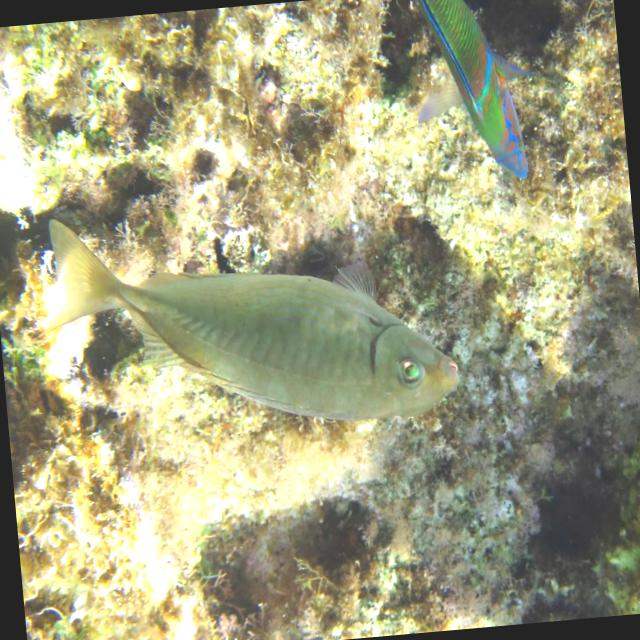Sokar Baligi: (28, 168, 478, 470)
